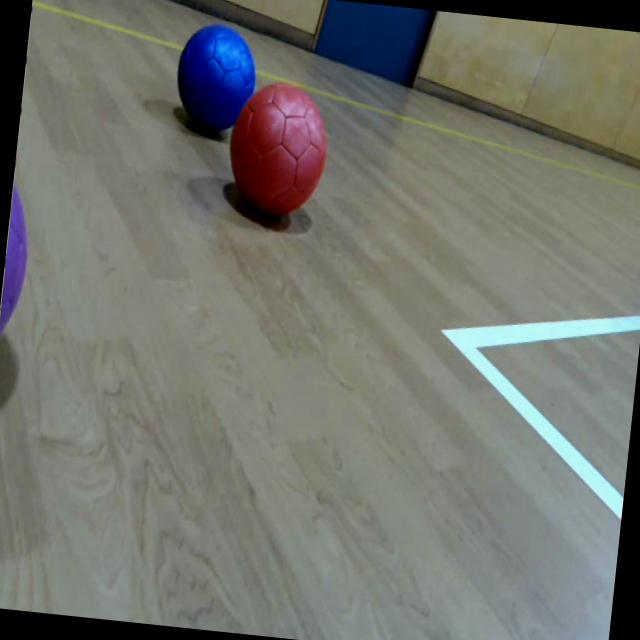blue_ball: (170, 20, 262, 136)
purple_ball: (0, 178, 37, 346)
red_ball: (220, 76, 335, 224)
